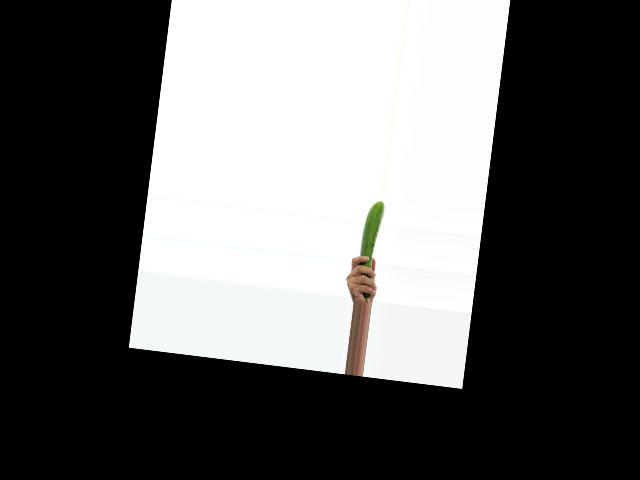cucumber: (354, 198, 385, 302)
